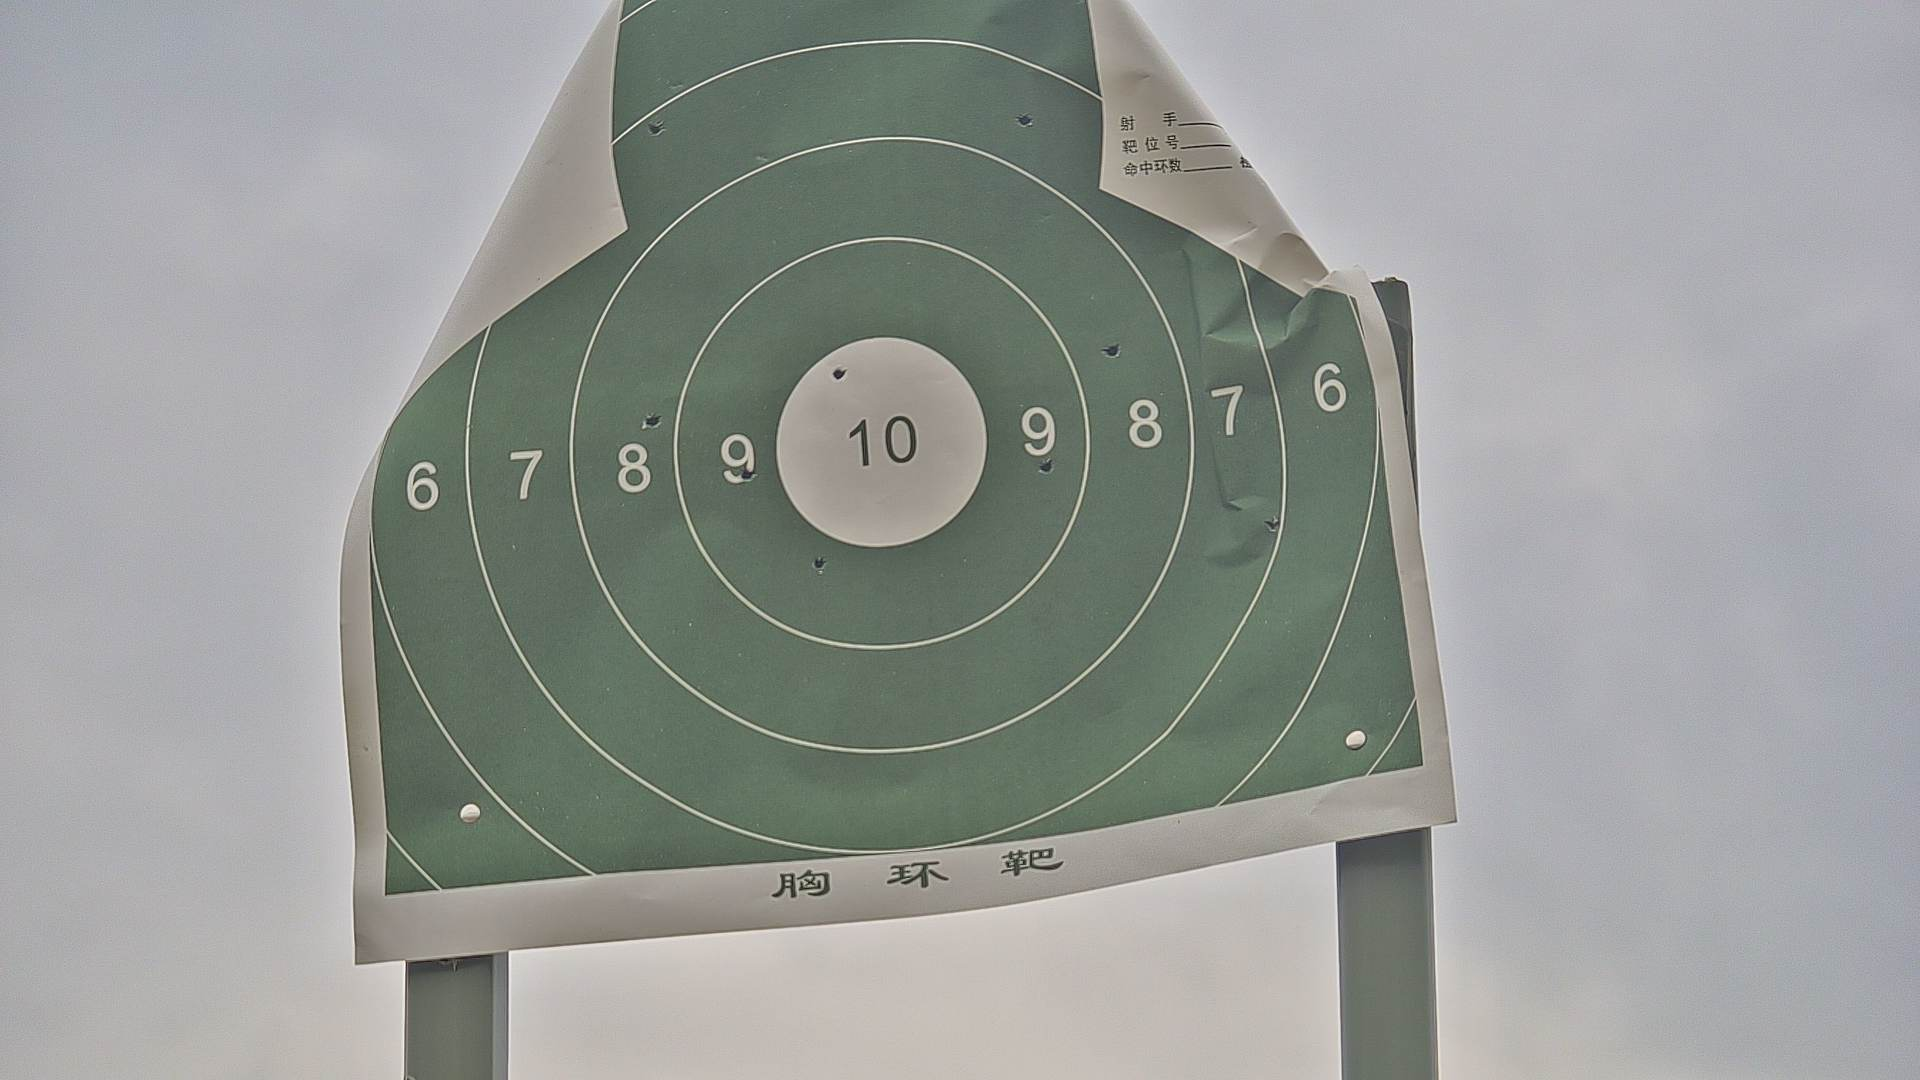hole: (1262, 513, 1283, 530), (812, 554, 825, 572), (1039, 458, 1054, 473), (644, 413, 661, 426), (1102, 344, 1120, 357), (647, 121, 661, 133), (742, 469, 756, 481), (833, 367, 847, 378), (1021, 113, 1033, 125)
kernel: (873, 440, 884, 446)
target: (373, 3, 1425, 891)
ten: (777, 334, 990, 545)
